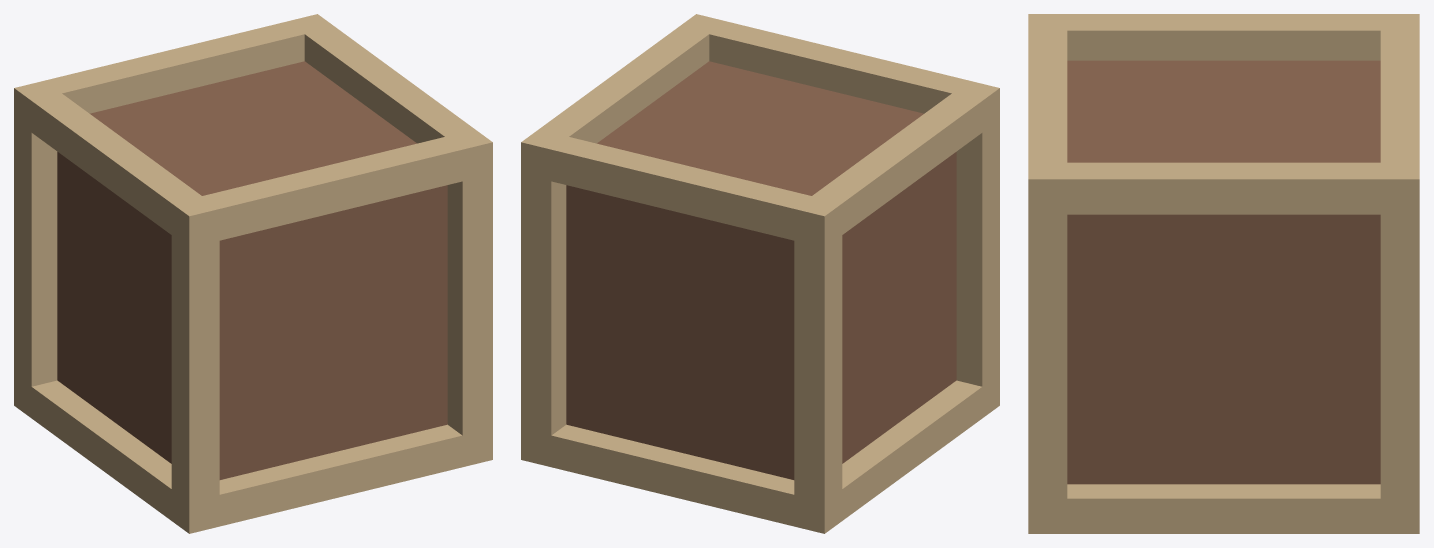
The model's file is Crate3.fbx.
The picture shows the model from 3 angles, left to right: view 1: azimuth 30°, elevation 25°; view 2: azimuth 150°, elevation 25°; view 3: azimuth 270°, elevation 25°; orthographic projection. The views are drawn at different scales.
Visible parts, largest first — view 1: Cube; view 2: Cube; view 3: Cube.
Boxes of the visible parts, x1,y1,x2,y2 form: Cube: (14, 14, 492, 533); Cube: (521, 14, 999, 533); Cube: (1028, 14, 1419, 533).
Bounding box in the file's own units: 1 × 1 × 1.
